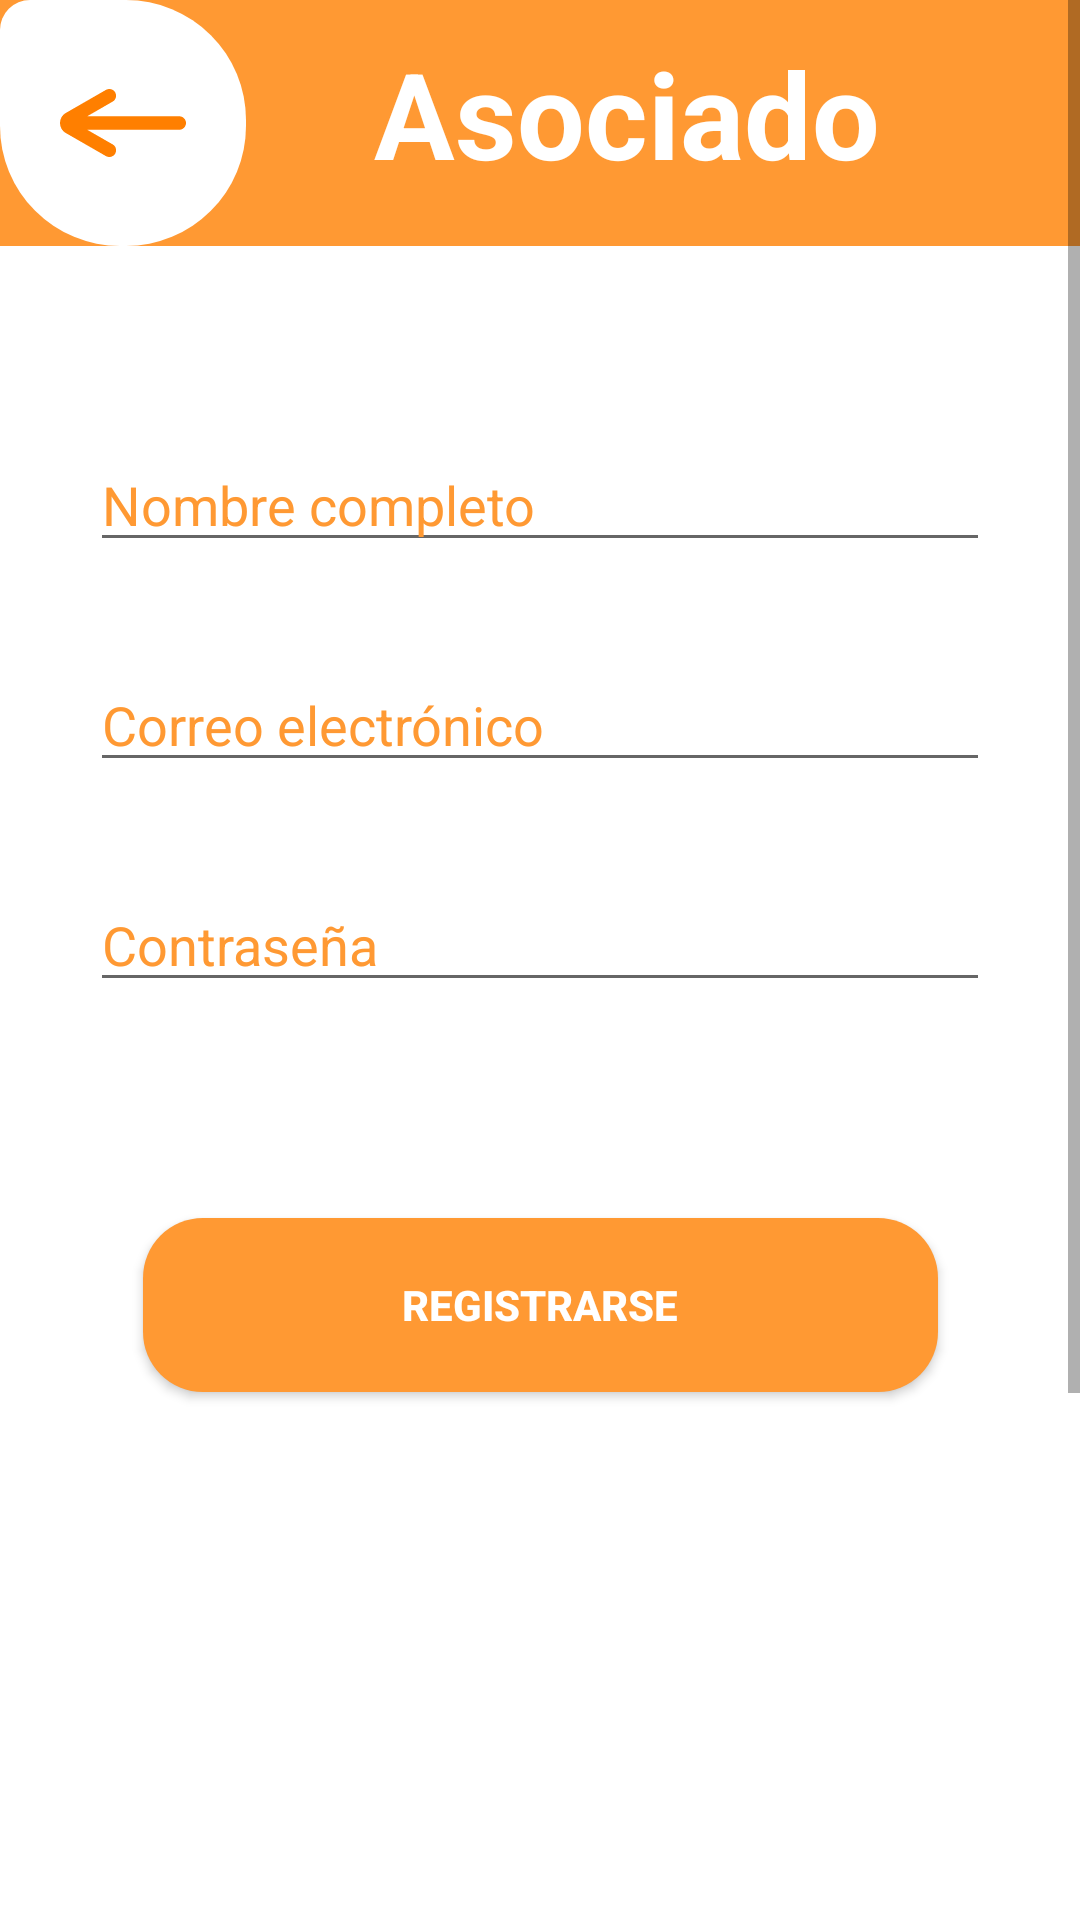

Named icons in this screenshot (1080×1920) and their centers, (x,y):
backarrow: (123,123)
